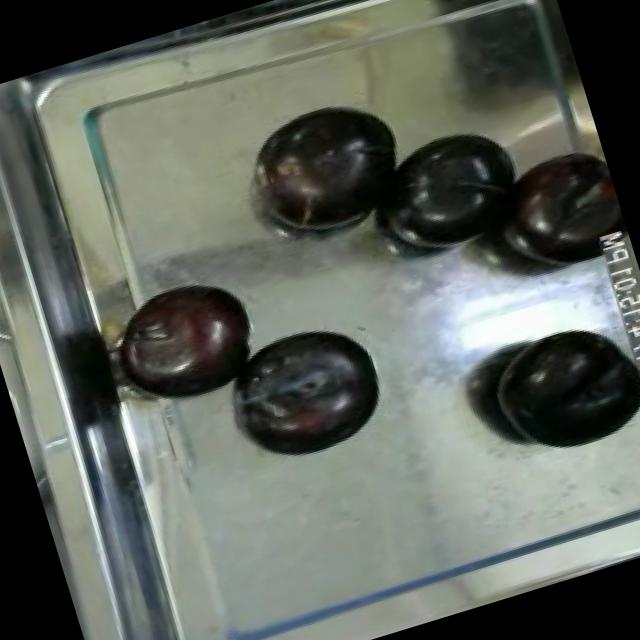Fruit: (236, 86, 424, 251), (219, 311, 395, 474), (472, 304, 640, 471), (366, 112, 540, 268), (110, 266, 272, 416)
